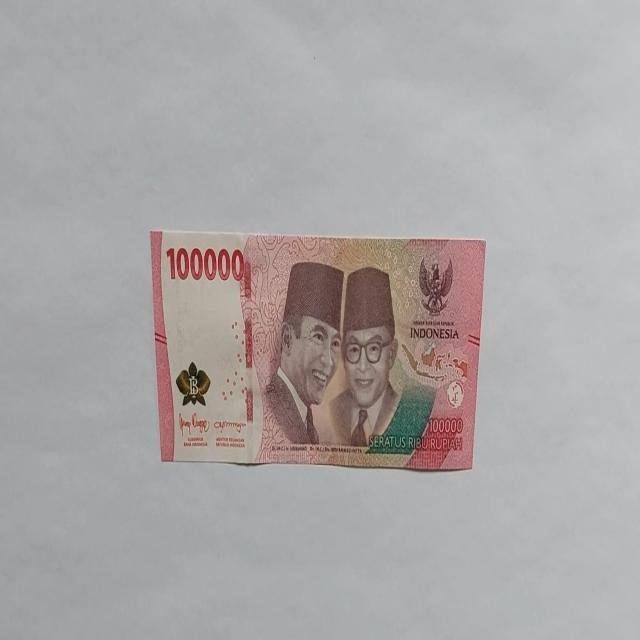seratus ribu rupiah: (150, 230, 486, 470), (262, 260, 344, 448)
